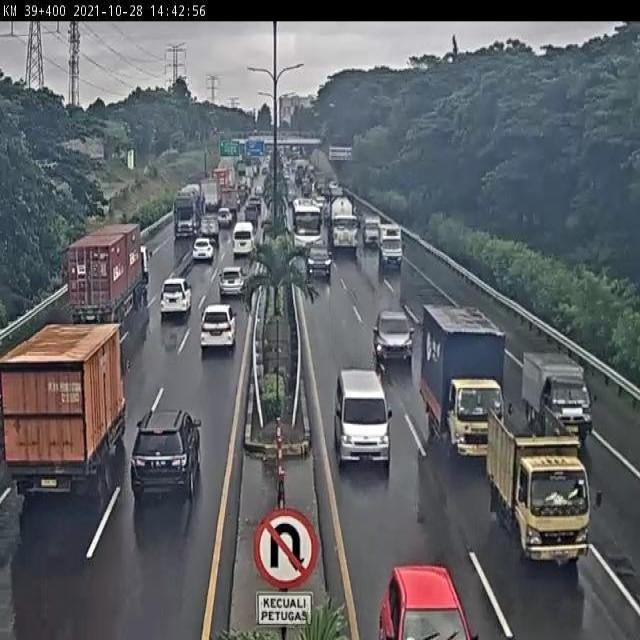Car: (131, 409, 205, 498), (374, 312, 414, 373), (199, 302, 237, 355), (159, 277, 192, 320), (304, 242, 334, 284), (219, 265, 246, 298), (191, 236, 215, 262)
Truck: (0, 318, 130, 503), (487, 406, 593, 566), (420, 303, 506, 451), (65, 224, 152, 326)
Van: (335, 365, 392, 472)
